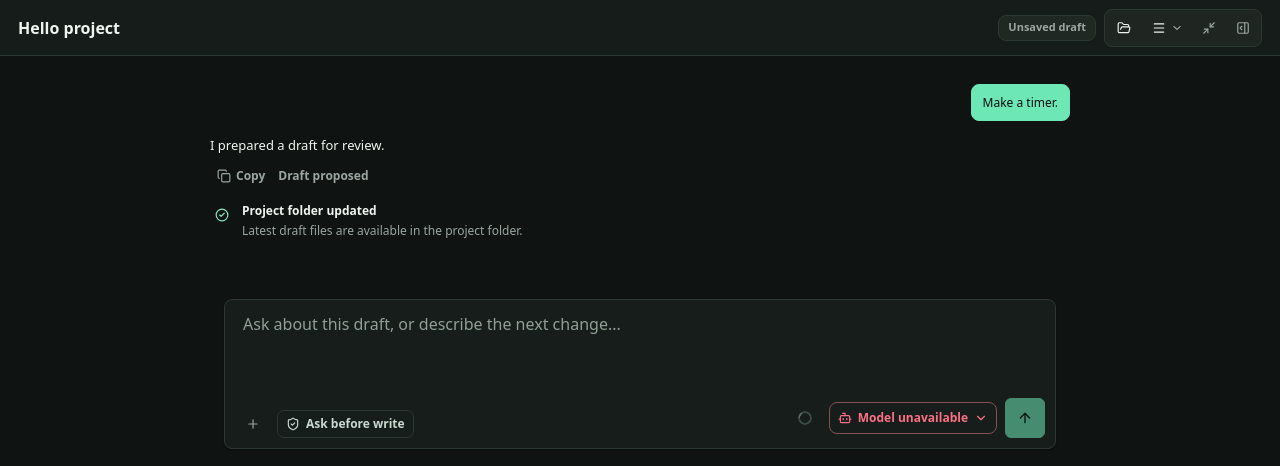
BuilderPage v2 › copies a completed assistant response from the turn tail
Expected: the element showing "Copy Draft proposed" is shown, [210, 163, 368, 189]
Click the button "Copy": (241, 176) [210, 163, 272, 189]
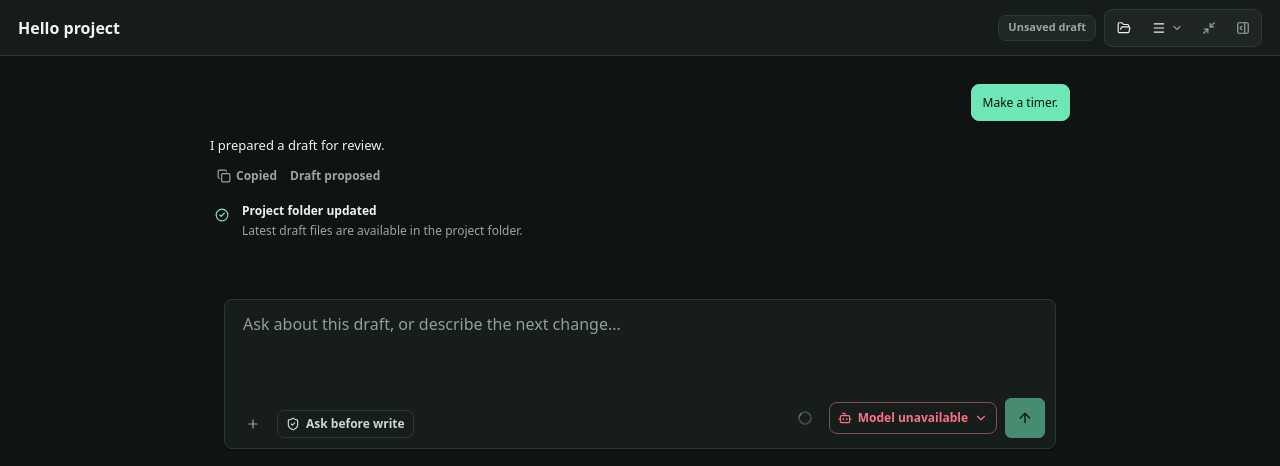
Now the button "Copied" is shown, box [210, 163, 284, 189]
